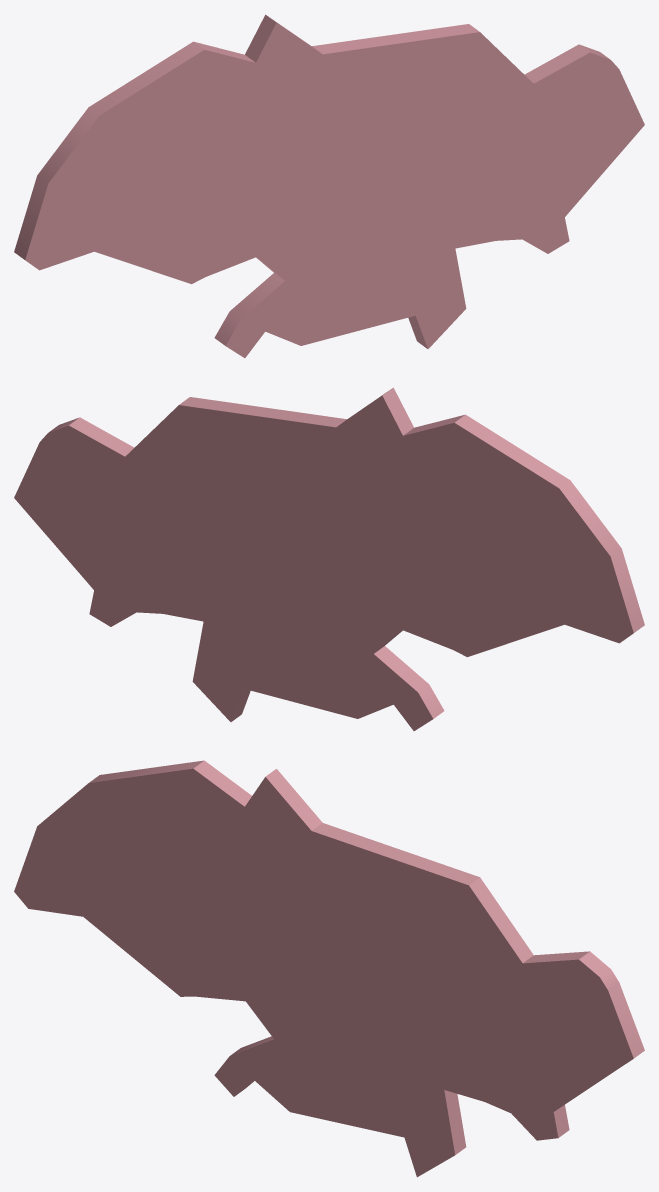
Rendered from tepehuanes.fbx.
3 renders of one model, top to bottom at view 1: azimuth 30°, elevation 25°; view 2: azimuth 150°, elevation 25°; view 3: azimuth 330°, elevation 25°, orthographic.
Parts seen in each view (by area): view 1: tepehuanes; view 2: tepehuanes; view 3: tepehuanes.
Boxes of the visible parts, box(x1,y1,x2,y2) form: tepehuanes: box(14, 14, 644, 357); tepehuanes: box(14, 387, 644, 730); tepehuanes: box(14, 760, 644, 1177).
Bounding box in the file's own units: 257 × 144 × 8.
